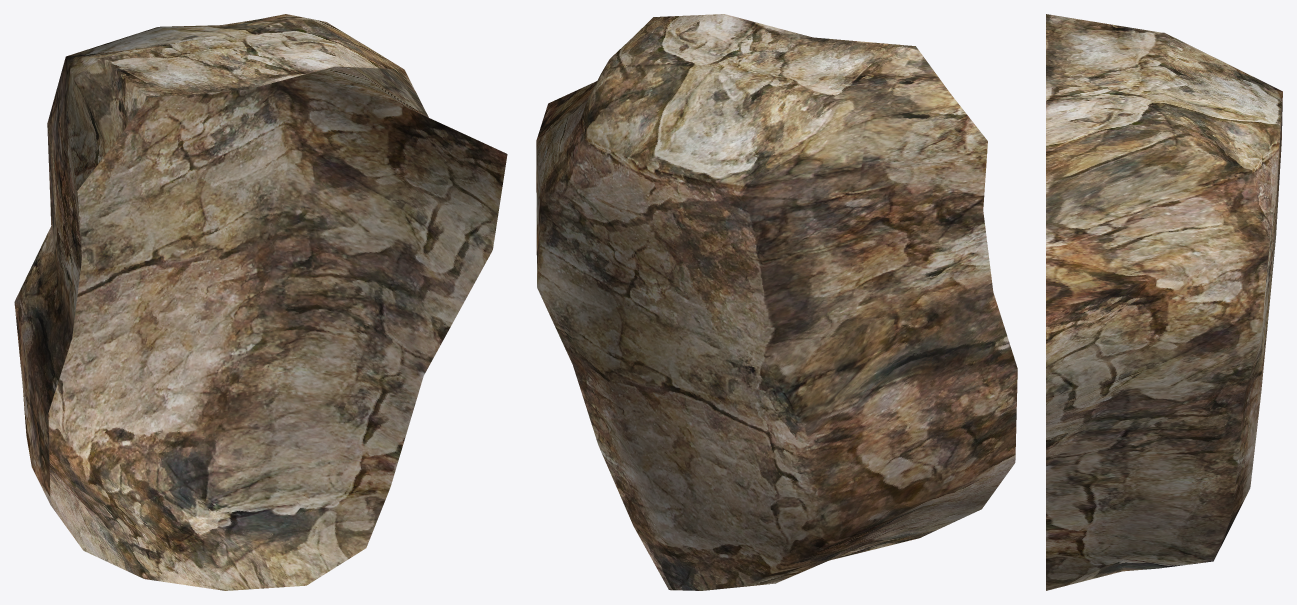
File: ex_DungeonSet_Rock_01B.fbx
3 views of the same model, side by side, from view 1: azimuth 30°, elevation 25°; view 2: azimuth 150°, elevation 25°; view 3: azimuth 270°, elevation 25° (orthographic). The views are drawn at different scales.
Parts seen in each view (by area): view 1: ex_DungeonSet_Rock_01B; view 2: ex_DungeonSet_Rock_01B; view 3: ex_DungeonSet_Rock_01B.
Boxes of the visible parts, <box> form: ex_DungeonSet_Rock_01B: <box>14,14,507,590</box>; ex_DungeonSet_Rock_01B: <box>536,14,1017,590</box>; ex_DungeonSet_Rock_01B: <box>1046,14,1282,590</box>.
Size of the model in its own units: 780 by 855 by 369.
